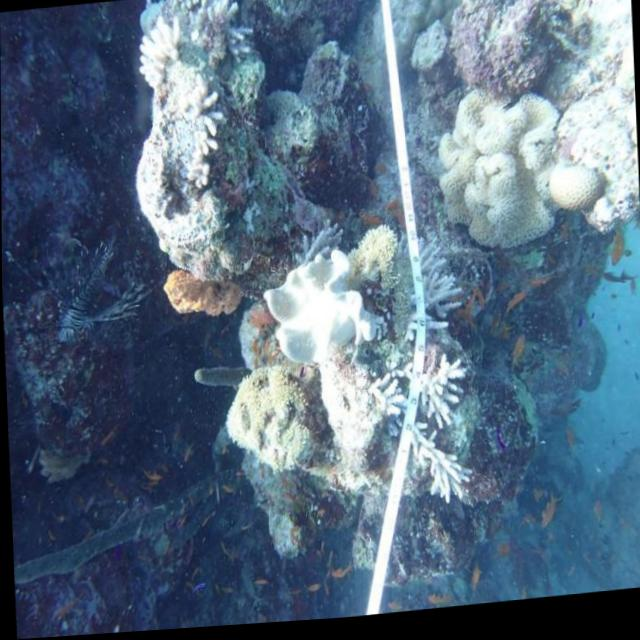Bleached Coral: (358, 364, 507, 521), (128, 0, 241, 205), (251, 254, 389, 375)
Healthy Coral: (440, 91, 562, 251)
